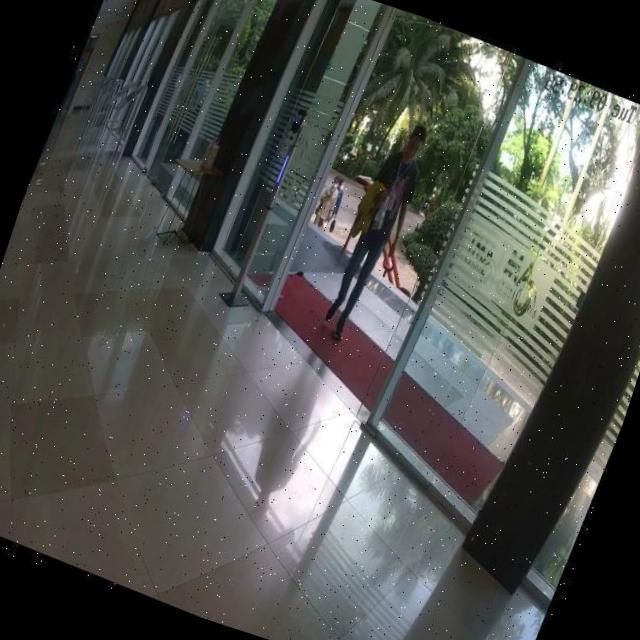person: (312, 108, 439, 352)
